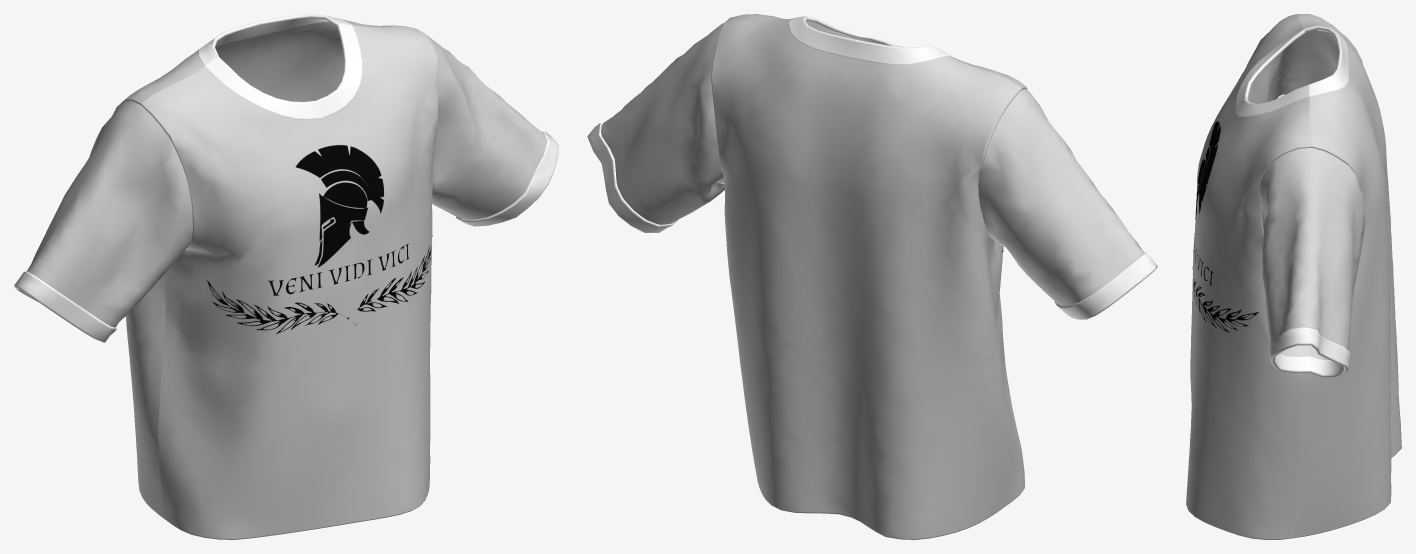
File: veni.glb
The picture shows the model from 3 angles, left to right: view 1: azimuth 30°, elevation 25°; view 2: azimuth 150°, elevation 25°; view 3: azimuth 270°, elevation 25°; orthographic projection. The views are drawn at different scales.
Parts seen in each view (by area): view 1: veni2; view 2: veni2; view 3: veni2.
Boxes of the visible parts, box(x1,y1,x2,y2) form: veni2: box(14, 14, 558, 539); veni2: box(587, 14, 1157, 539); veni2: box(1186, 14, 1401, 539).
Bounding box in the file's own units: 1.58 × 1.27 × 0.5712.
Materials: 3 (1 with a texture image).
